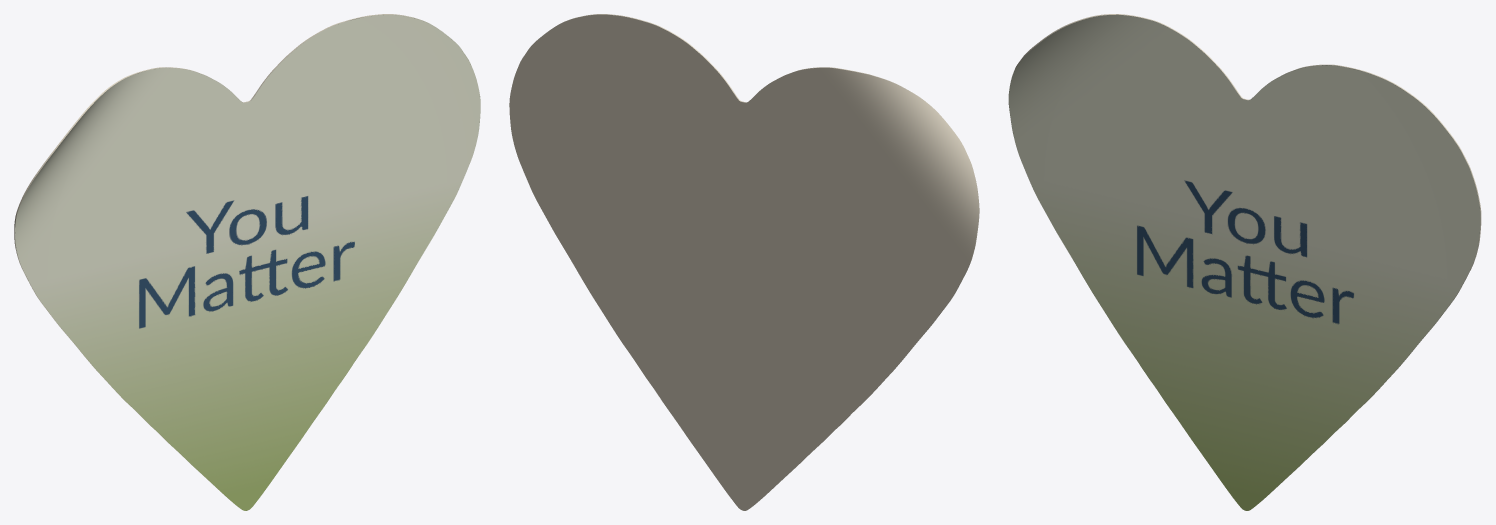
Rendered from new-02-you-matter.glb.
3 views of the same model, side by side, from view 1: azimuth 30°, elevation 25°; view 2: azimuth 150°, elevation 25°; view 3: azimuth 330°, elevation 25° (orthographic).
Parts seen in each view (by area): view 1: new-02-you-matter / thin printed sticker; view 2: new-02-you-matter / thin printed sticker; view 3: new-02-you-matter / thin printed sticker.
Part boxes in pixels (box(x1,y1,x2,y2)): new-02-you-matter / thin printed sticker: box(14, 14, 480, 510); new-02-you-matter / thin printed sticker: box(509, 14, 979, 510); new-02-you-matter / thin printed sticker: box(1008, 14, 1481, 510).
Bounding box in the file's own units: 2.34 × 2.22 × 0.095.
2 materials, 1 textured.
